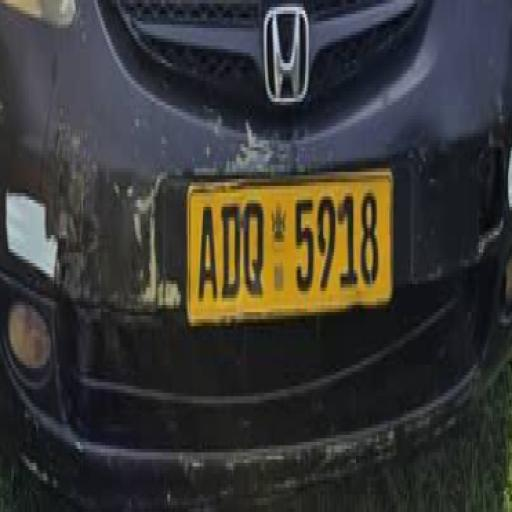number-plates: (188, 177, 385, 313)
